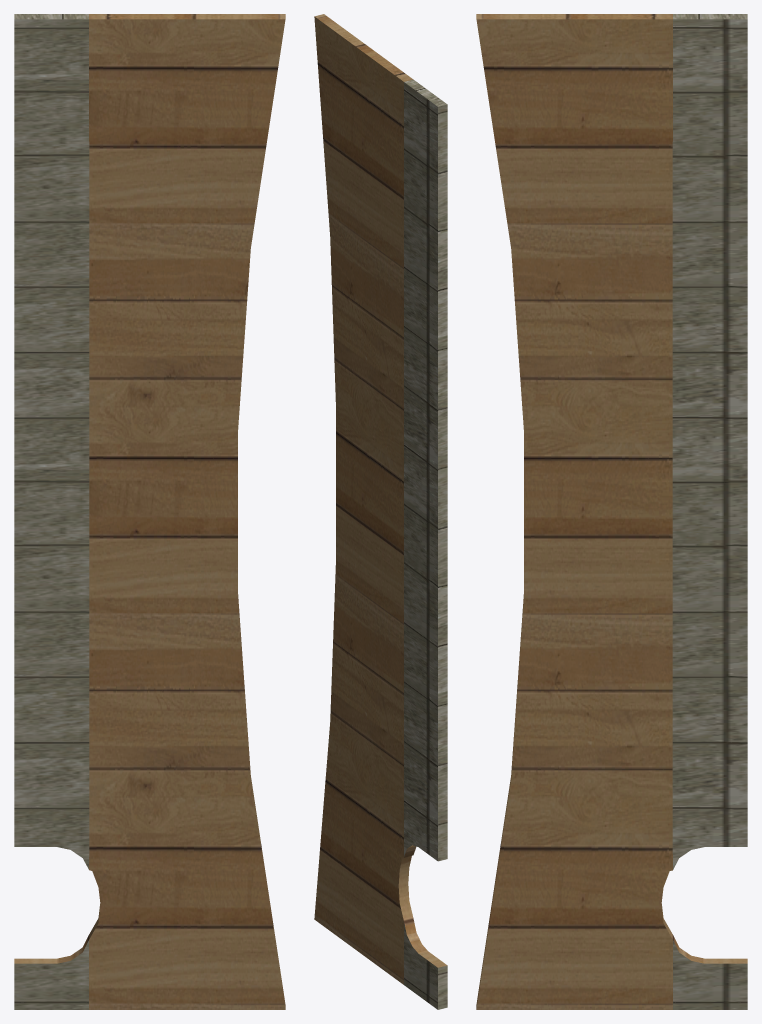
The model's file is nt_concrete_fence_320_tall_dog_LOD1.obj.
3 renders of one model, left to right at view 1: azimuth 90°, elevation 25°; view 2: azimuth 210°, elevation 25°; view 3: azimuth 270°, elevation 25°, orthographic. The views are drawn at different scales.
Visible parts, largest first — view 1: nt_wood_fence, nt_2020_concrete_pattern_02; view 2: nt_wood_fence, nt_2020_concrete_pattern_02; view 3: nt_wood_fence, nt_2020_concrete_pattern_02.
Part boxes in pixels (box(x1,y1,x2,y2)): nt_wood_fence: box(14, 14, 285, 1009); nt_2020_concrete_pattern_02: box(14, 14, 89, 1009); nt_wood_fence: box(314, 14, 447, 984); nt_2020_concrete_pattern_02: box(404, 79, 447, 1009); nt_wood_fence: box(476, 14, 747, 1009); nt_2020_concrete_pattern_02: box(672, 14, 747, 1009).
Bounding box in the file's own units: 9.12 × 813 × 202.
2 materials, 2 textured.
